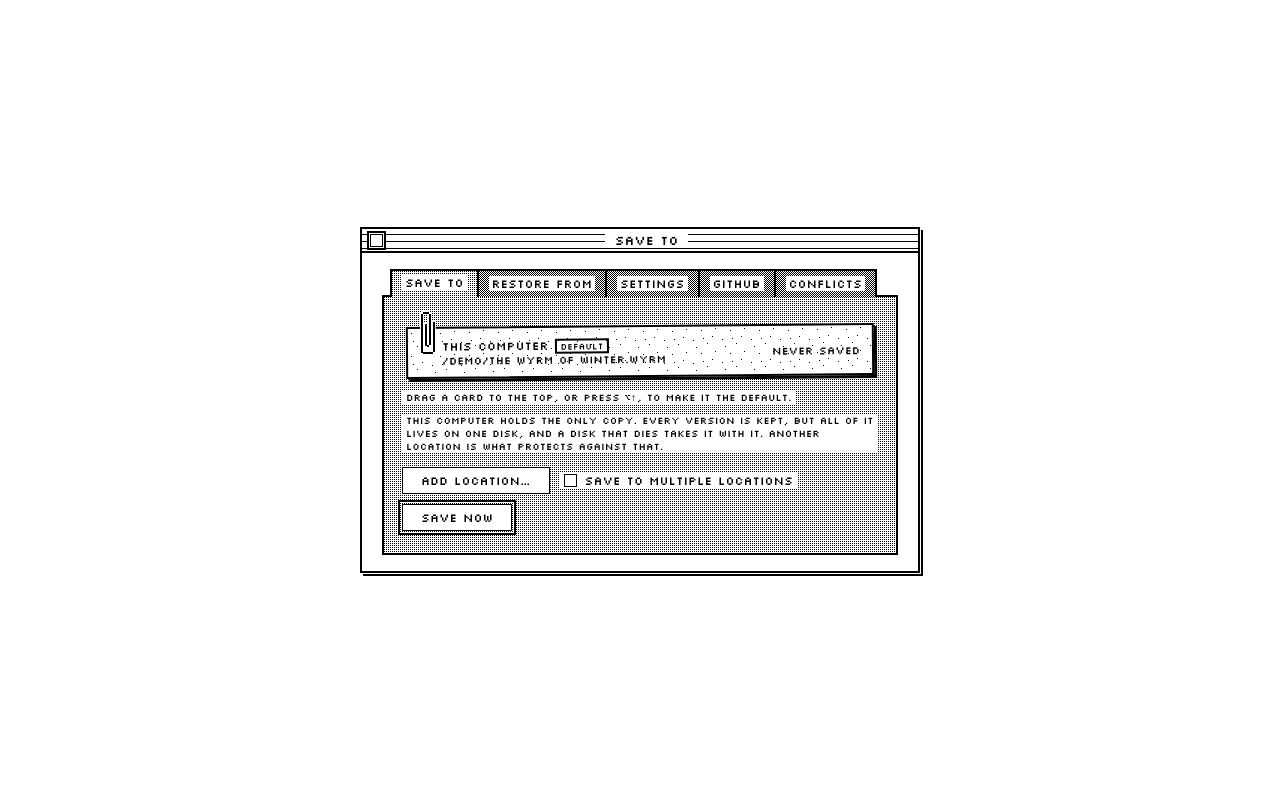
Scenario: removable drives › warns as a card is added, by its name
Click the button "Add Location…".
click(476, 480)  # box [402,467,550,494]
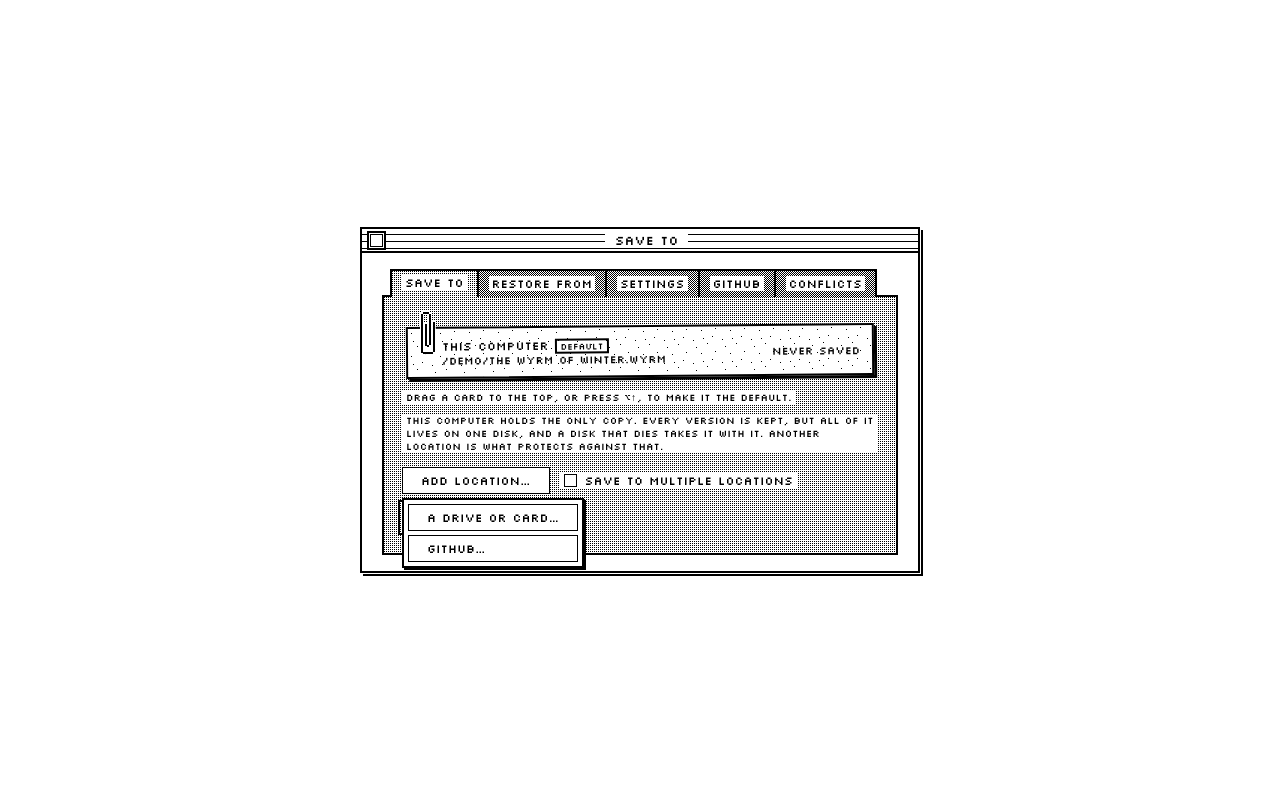
Click the menu item "A Drive or Card…".
click(493, 518)  # box [408,504,578,531]
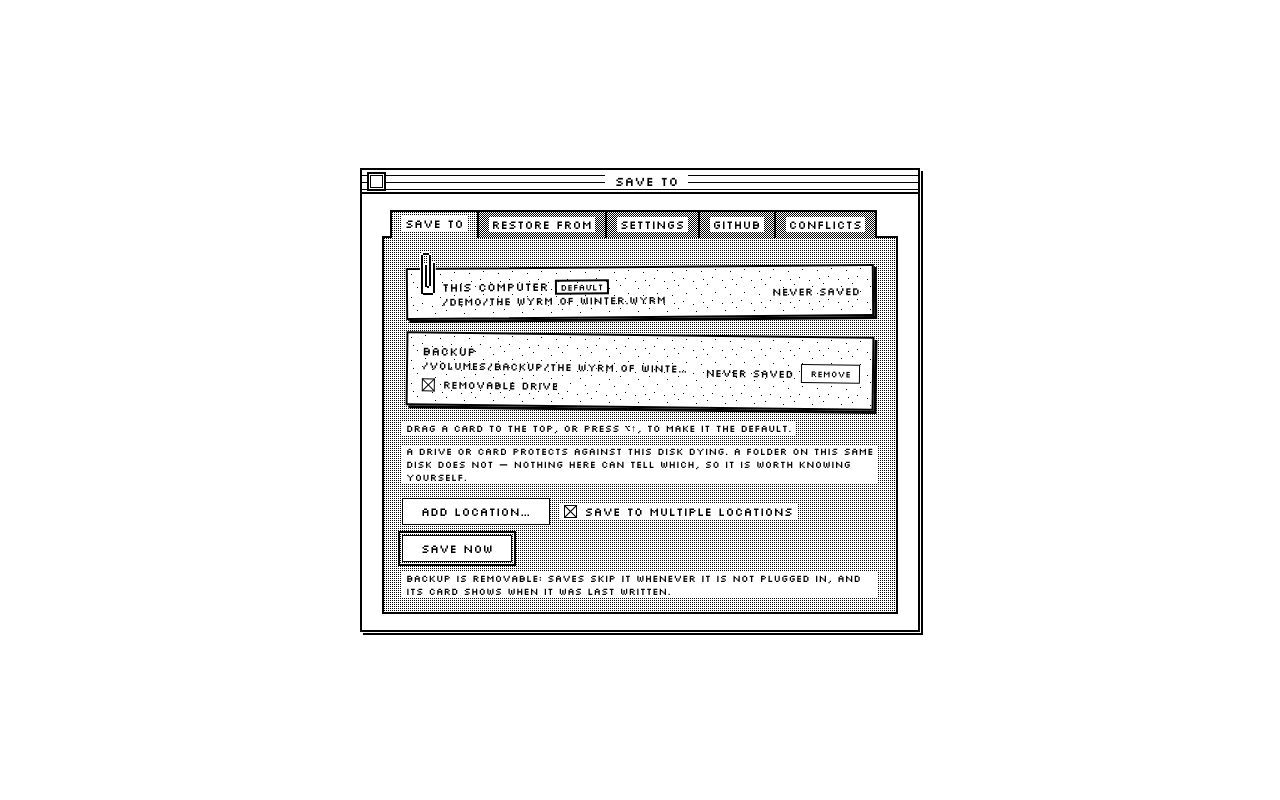
Check: the message shows "Backup is removable: saves skip it whenever it is not plugged in", box [406,572,861,598]
